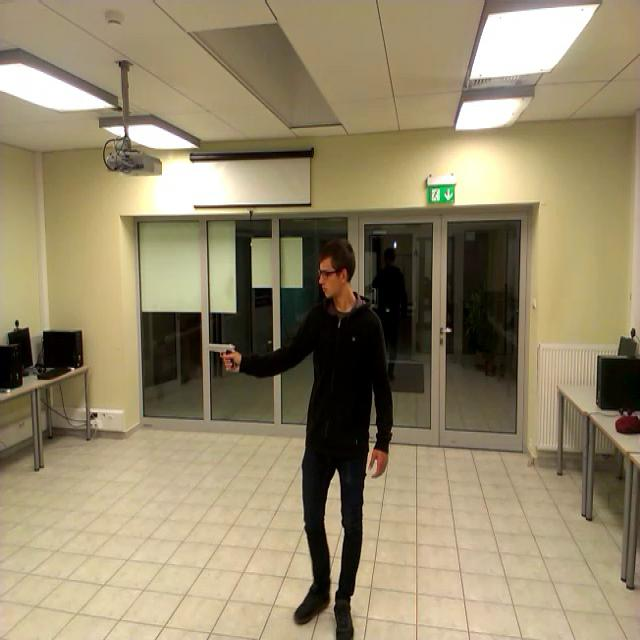handgun: (198, 339, 243, 383)
